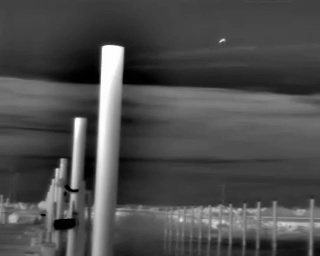BIRD: (217, 35, 228, 46)
